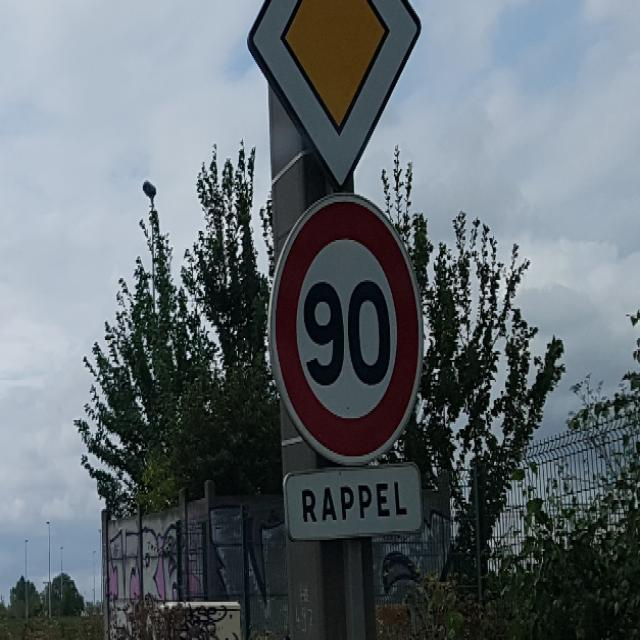speed_90: (269, 187, 424, 465)
